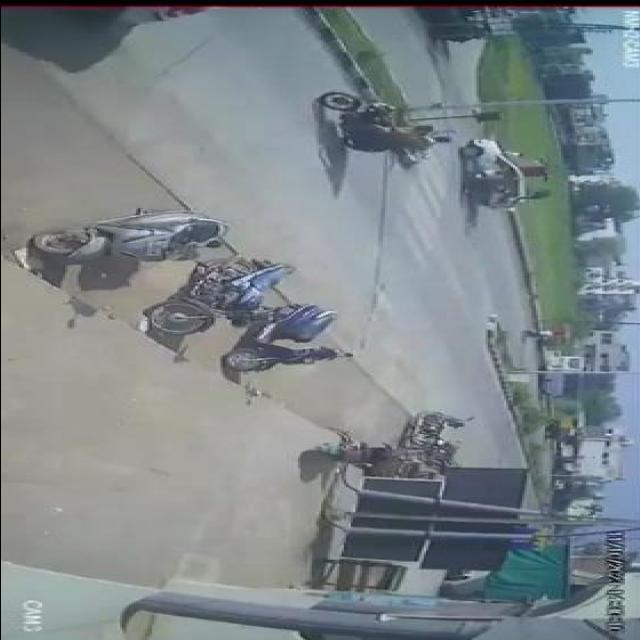accident: (455, 134, 560, 218)
